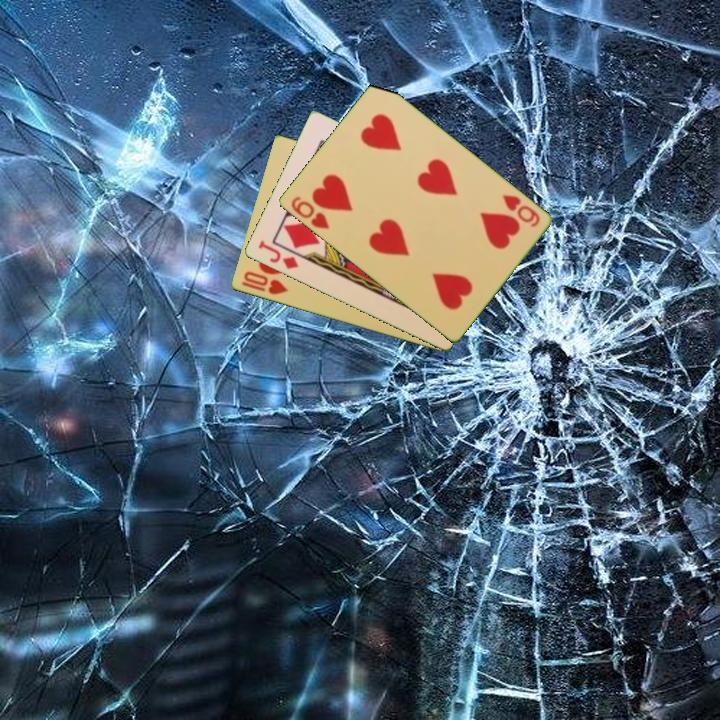10h: (237, 268, 291, 298)
6h: (287, 193, 332, 232), (498, 191, 543, 230)
Jd: (254, 237, 301, 272)
